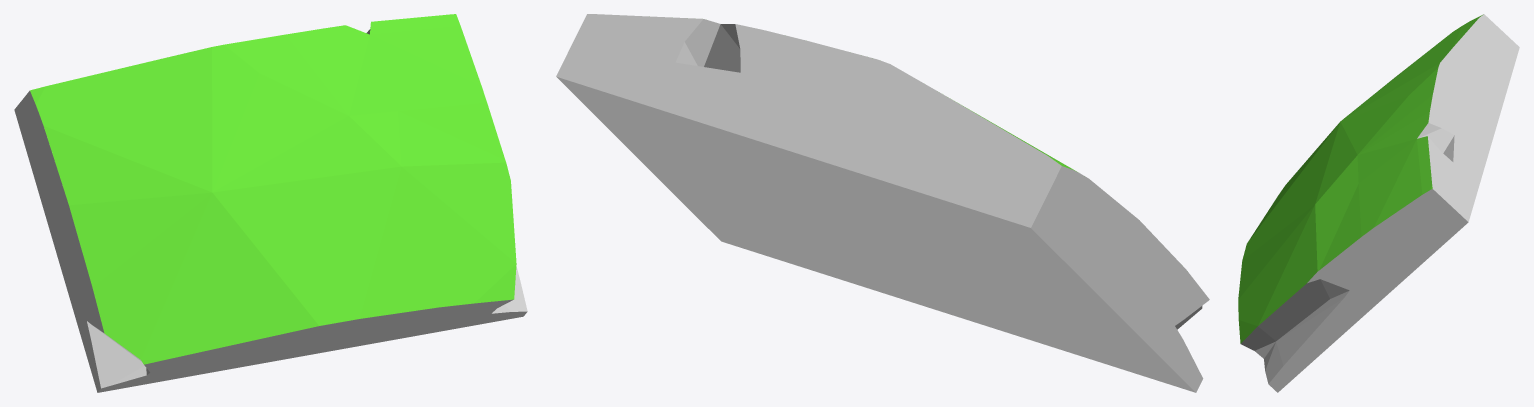
Rendered from aboutUs_3.glb.
3 views of the same model, side by side, from view 1: azimuth 30°, elevation 25°; view 2: azimuth 150°, elevation 25°; view 3: azimuth 270°, elevation 25° (orthographic). The views are drawn at different scales.
Parts seen in each view (by area): view 1: Sphere.006; view 2: Sphere.006; view 3: Sphere.006.
Boxes of the visible parts, <box> form: Sphere.006: <box>14,14,527,392</box>; Sphere.006: <box>556,14,1209,392</box>; Sphere.006: <box>1238,14,1519,392</box>.
Size of the model in its own units: 0.6503 by 0.38 by 0.4165.
